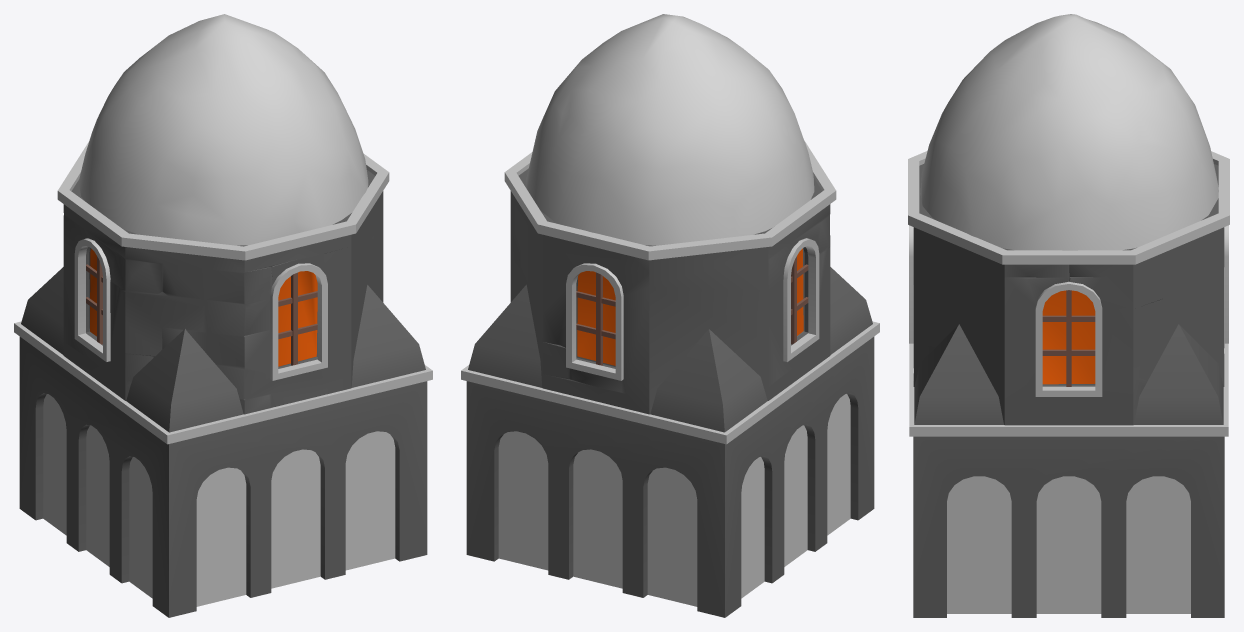
The model's file is roof_building_6_a.FBX.
The picture shows the model from 3 angles, left to right: view 1: azimuth 30°, elevation 25°; view 2: azimuth 150°, elevation 25°; view 3: azimuth 270°, elevation 25°; orthographic projection. The views are drawn at different scales.
Parts seen in each view (by area): view 1: roof_building_6_a_LOD0; view 2: roof_building_6_a_LOD0; view 3: roof_building_6_a_LOD0.
Part boxes in pixels (x1=…): roof_building_6_a_LOD0: x1=14, y1=14, x2=432, y2=617; roof_building_6_a_LOD0: x1=461, y1=14, x2=879, y2=617; roof_building_6_a_LOD0: x1=908, y1=14, x2=1229, y2=617.
Size of what is drawn, in the model's own units: 466 by 856 by 466.
